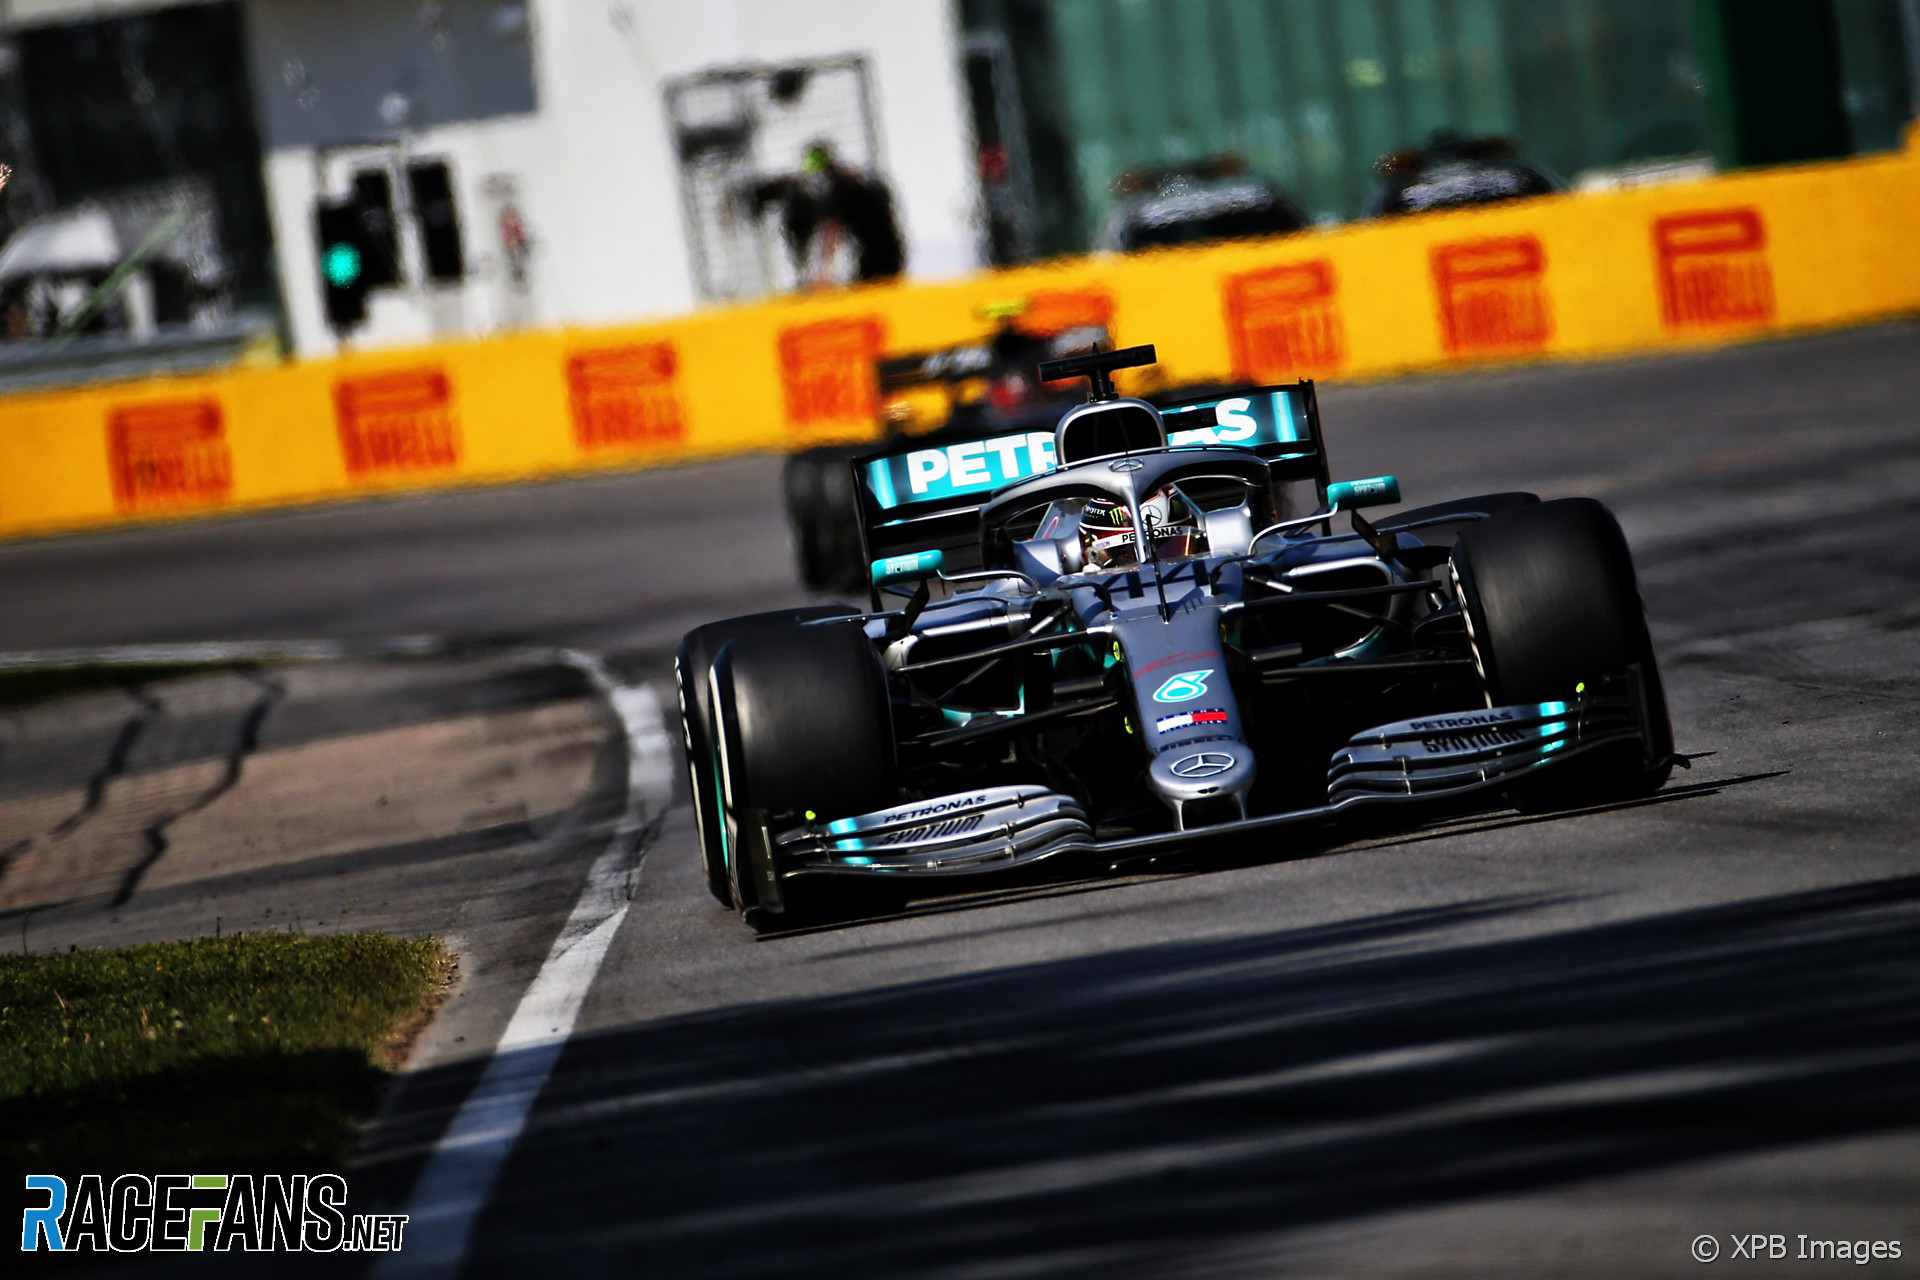F1 Car: (677, 370, 1696, 941)
